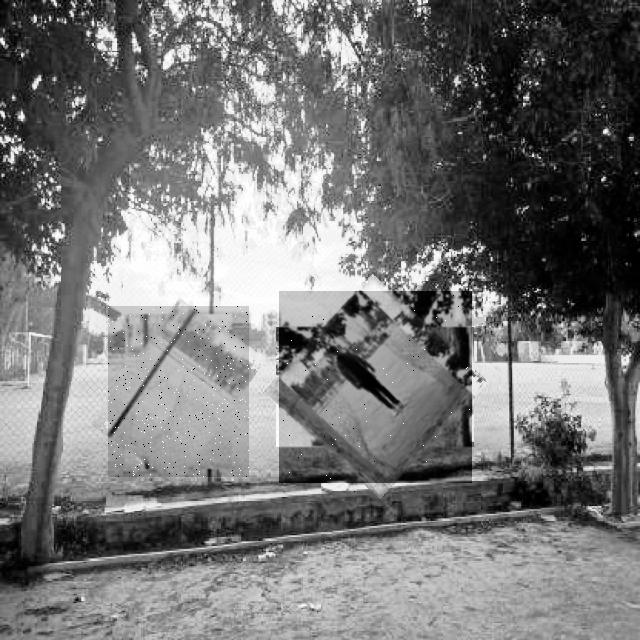anomaly-fence: (279, 291, 472, 483), (108, 306, 249, 477)
